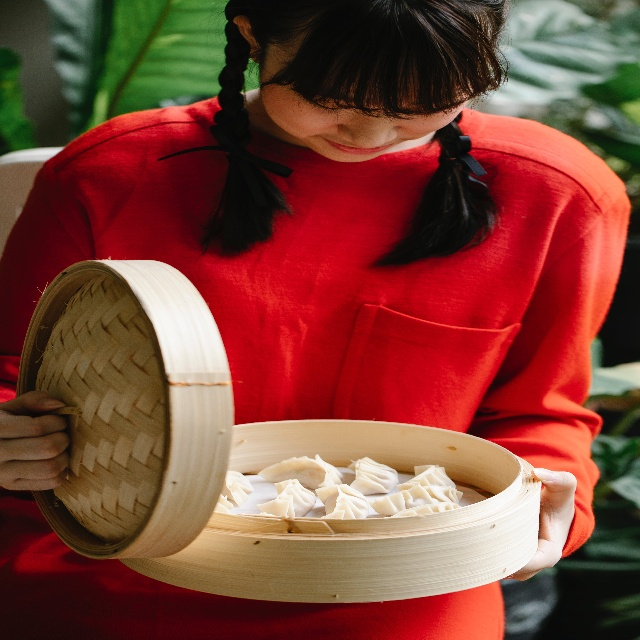Sin_guantes: (502, 467, 577, 582), (0, 390, 69, 491)
